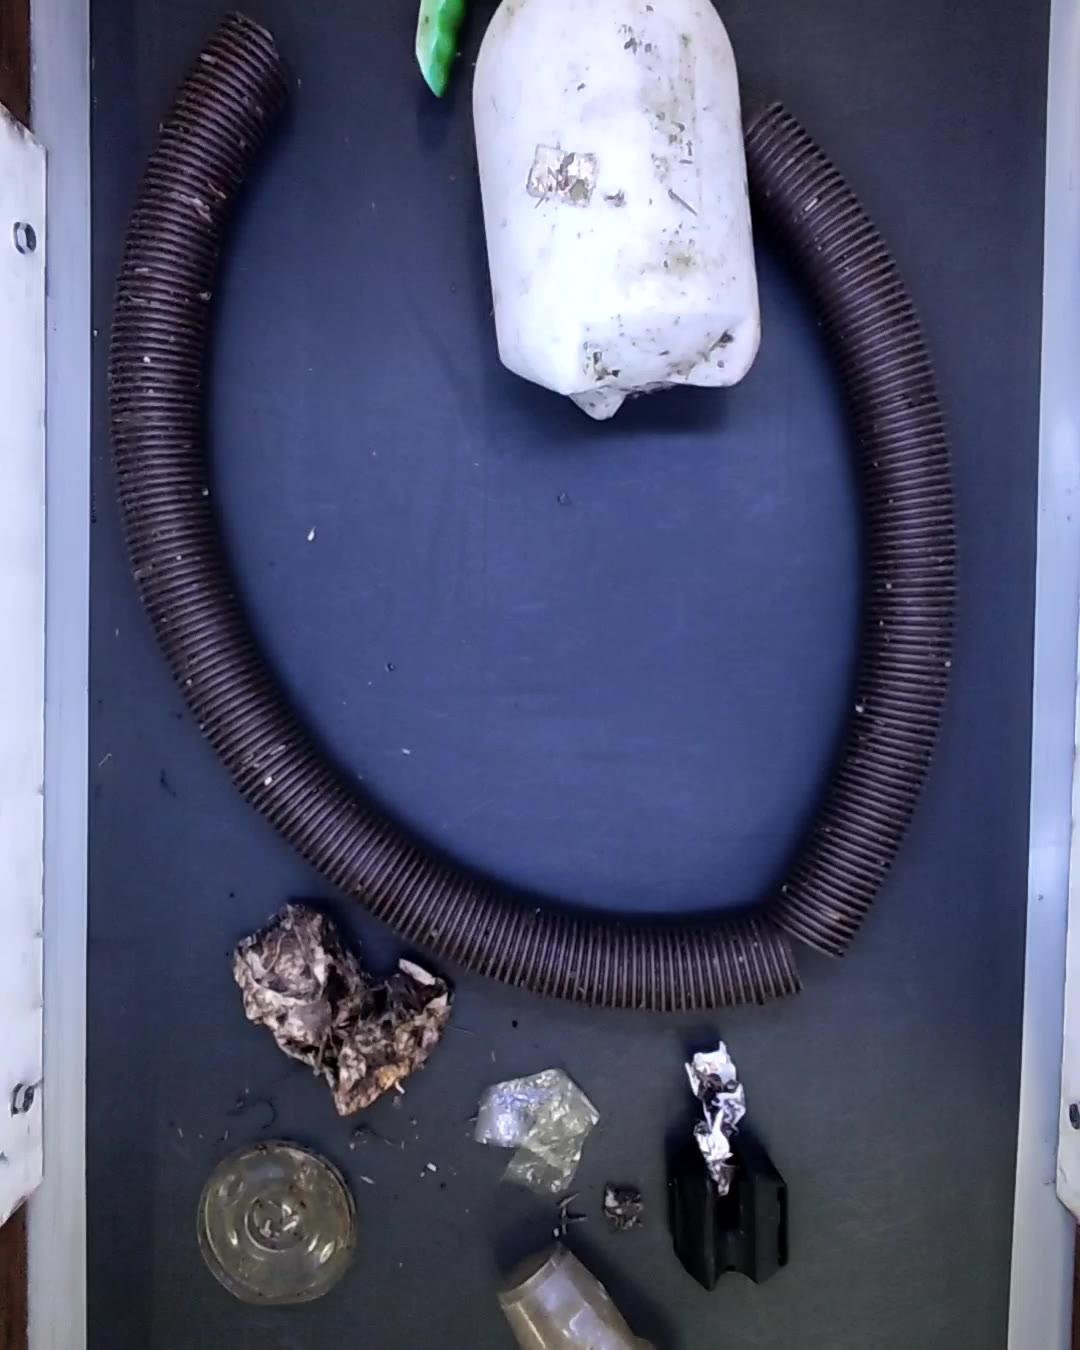Plastic folies of stukken daarvan 2.5- 50 cm: (473, 1070, 590, 1202), (688, 1037, 747, 1199)
